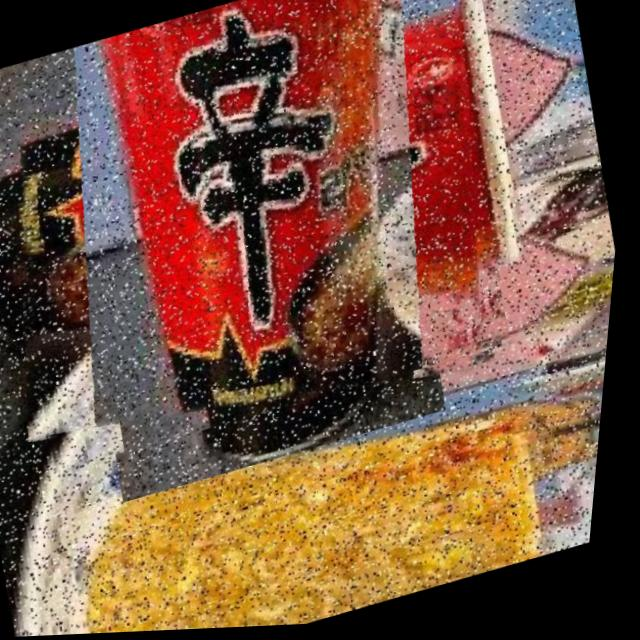Miscellaneous: (0, 0, 541, 481)
